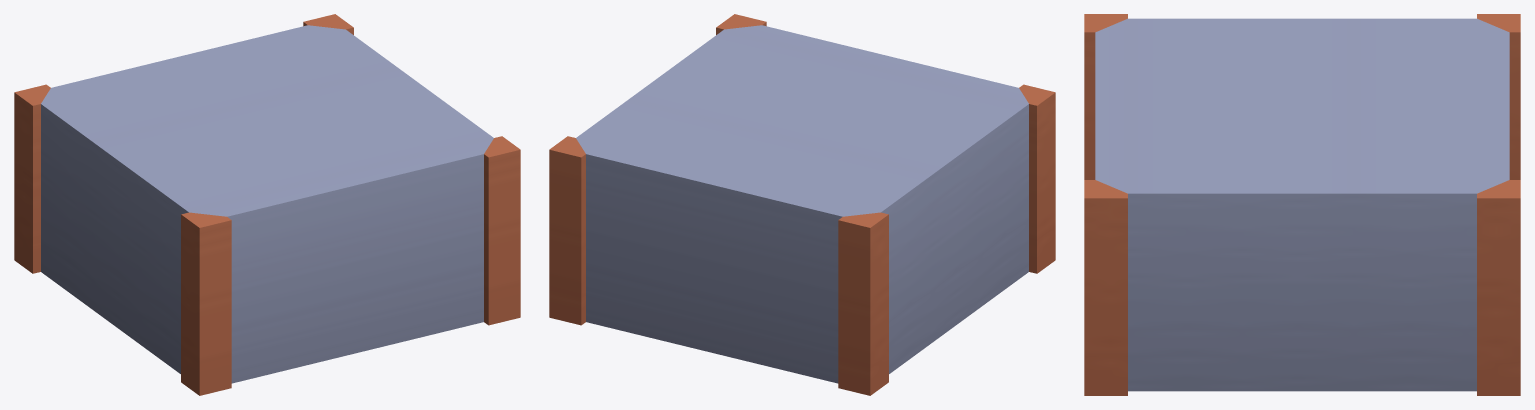
The model's file is wallBlockHalf.fbx.
3 renders of one model, left to right at view 1: azimuth 30°, elevation 25°; view 2: azimuth 150°, elevation 25°; view 3: azimuth 270°, elevation 25°, orthographic. The views are drawn at different scales.
Visible parts, largest first — view 1: wallBlockHalf; view 2: wallBlockHalf; view 3: wallBlockHalf.
Boxes of the visible parts, x1,y1,x2,y2 form: wallBlockHalf: [14, 14, 520, 395]; wallBlockHalf: [549, 14, 1055, 395]; wallBlockHalf: [1084, 14, 1520, 395].
Bounding box in the file's own units: 1 × 1 × 0.5.
